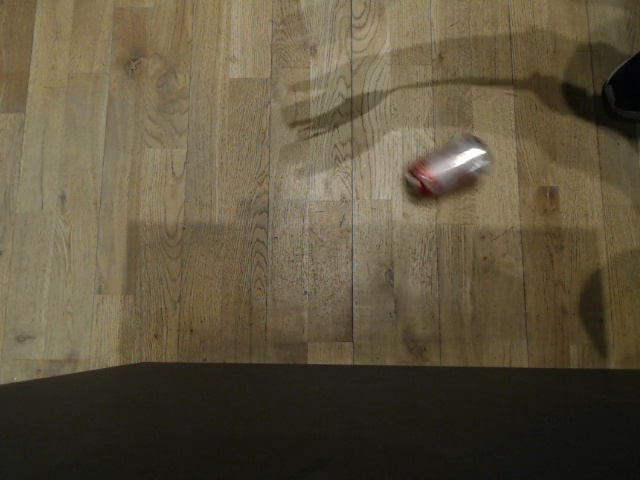cola: (405, 131, 492, 202)
